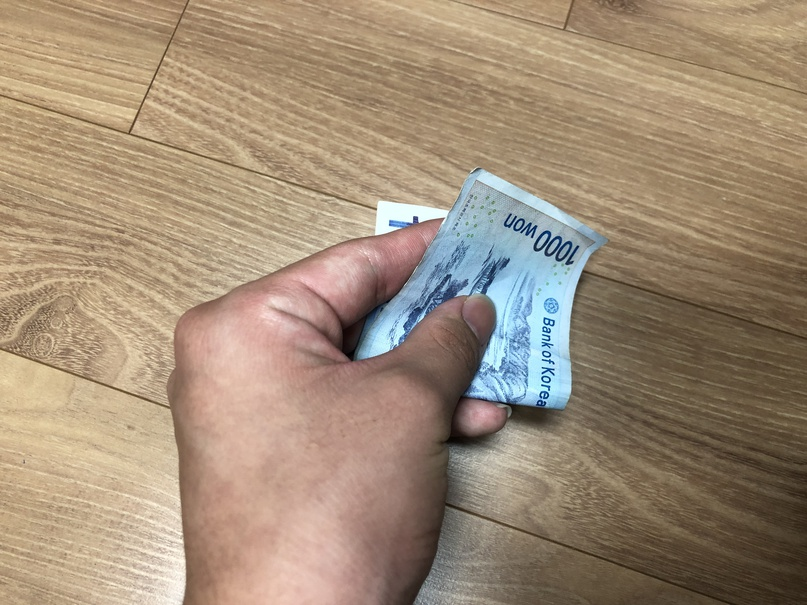1000won: (352, 168, 608, 410)
